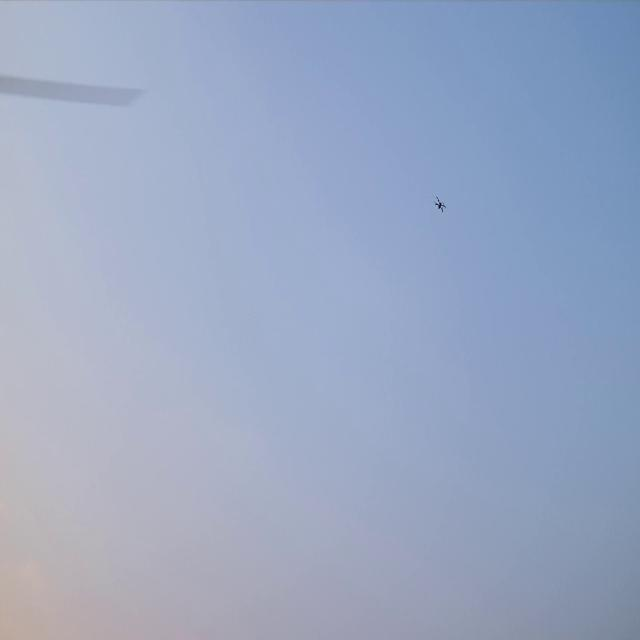UAV: (436, 200, 444, 212)
